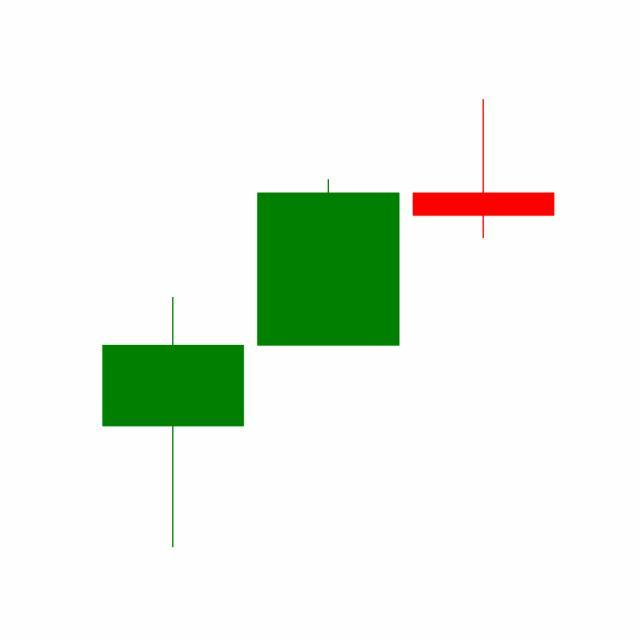Marubozu: (250, 178, 407, 348)
